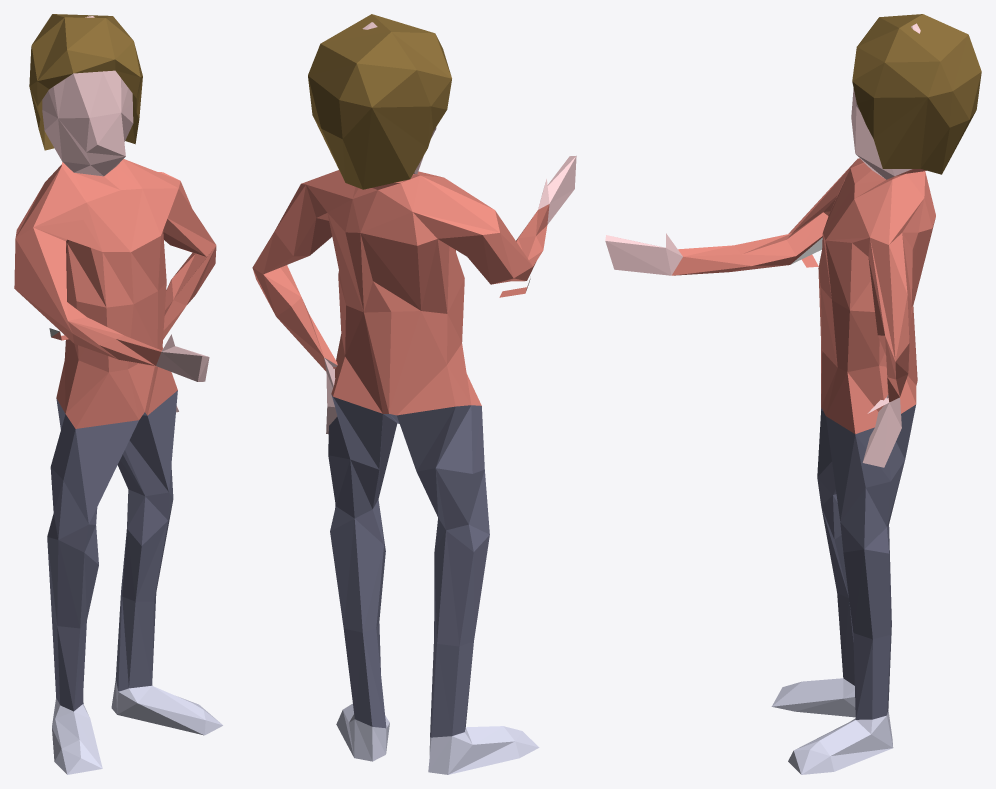
File: boy.gltf
3 renders of one model, left to right at view 1: azimuth 30°, elevation 25°; view 2: azimuth 150°, elevation 25°; view 3: azimuth 270°, elevation 25°, orthographic. The views are drawn at different scales.
Visible parts, largest first — view 1: BoyWear, BoyPants, BoySkin, BoyHair, BoyShoes; view 2: BoyWear, BoyPants, BoyHair, BoyShoes, BoySkin; view 3: BoyWear, BoyPants, BoyHair, BoyShoes, BoySkin.
Boxes of the visible parts, x1,y1,x2,y2 form: BoyWear: [14, 159, 216, 428]; BoyPants: [47, 390, 177, 711]; BoySkin: [42, 16, 209, 412]; BoyHair: [29, 14, 142, 150]; BoyShoes: [52, 680, 222, 774]; BoyWear: [252, 170, 549, 415]; BoyPants: [328, 394, 489, 737]; BoyHair: [308, 14, 451, 189]; BoyShoes: [336, 703, 539, 774]; BoySkin: [324, 22, 576, 434]; BoyWear: [672, 158, 935, 434]; BoyPants: [817, 404, 915, 719]; BoyHair: [852, 14, 981, 174]; BoyShoes: [771, 678, 893, 774]; BoySkin: [605, 23, 920, 467].
Size of the model in its own units: 31.24 by 94.39 by 45.18.
